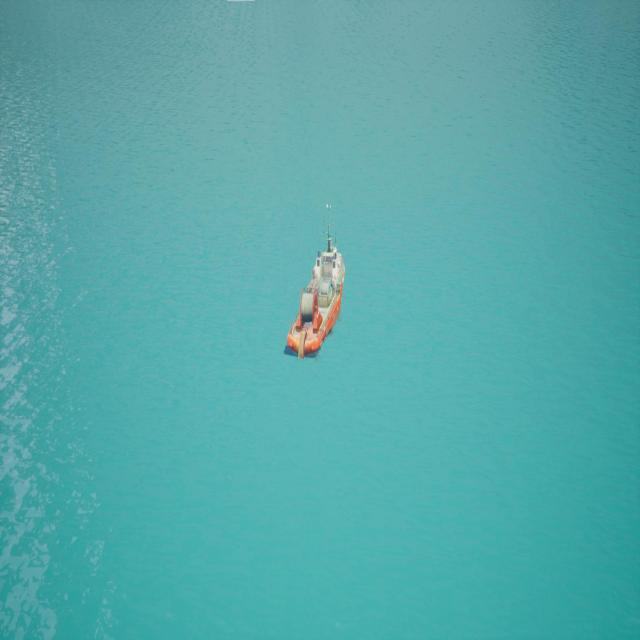tug boat: (288, 208, 347, 362)
